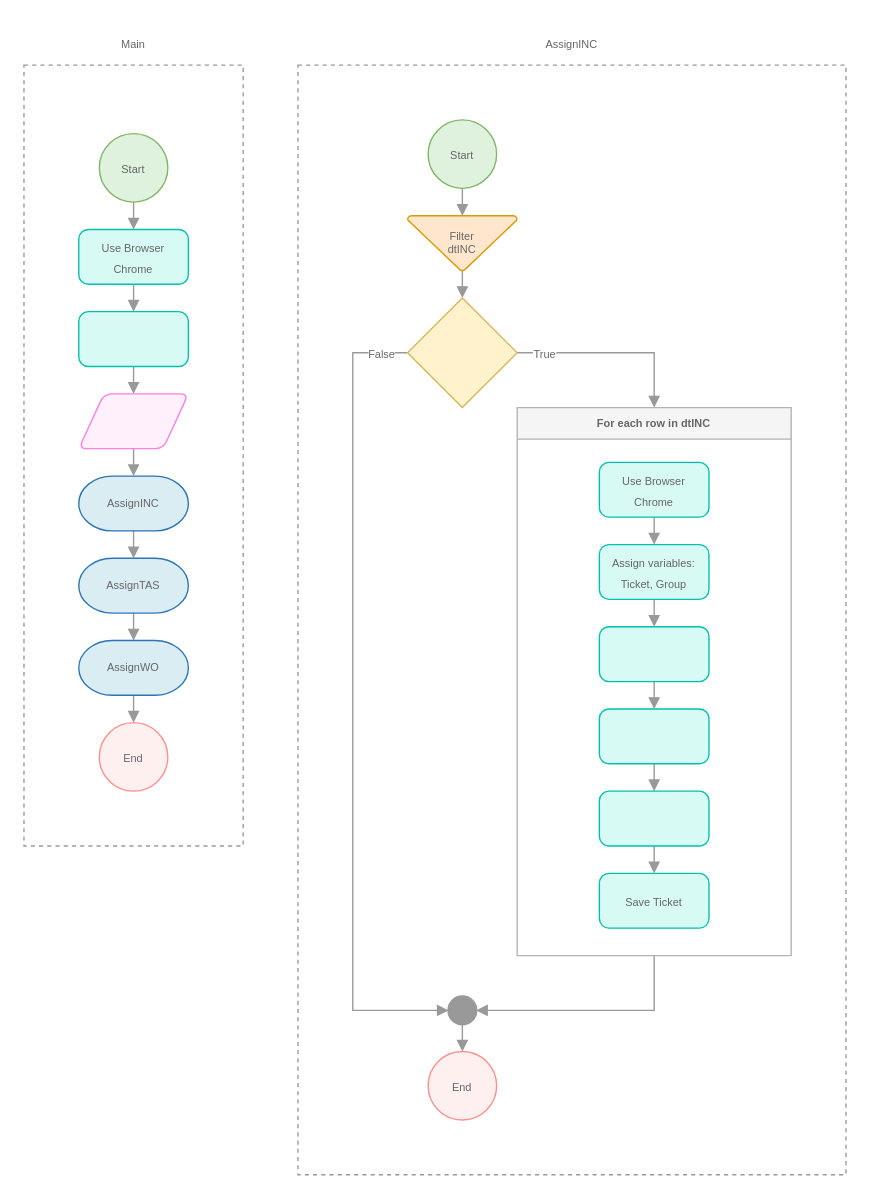
Some shapes in this 870 by 1199 pixel diagram are drawn without their labels. Each missing label, with the centre of its shape:
"Check App State" belongs at (653,736).
"DataTable dtTotalTickets" belongs at (132,421).
"Log in" belongs at (132,338).
"Rows > 0" belongs at (461,352).
"Search Ticket" belongs at (653,653).
"Update Group" belongs at (653,818).
